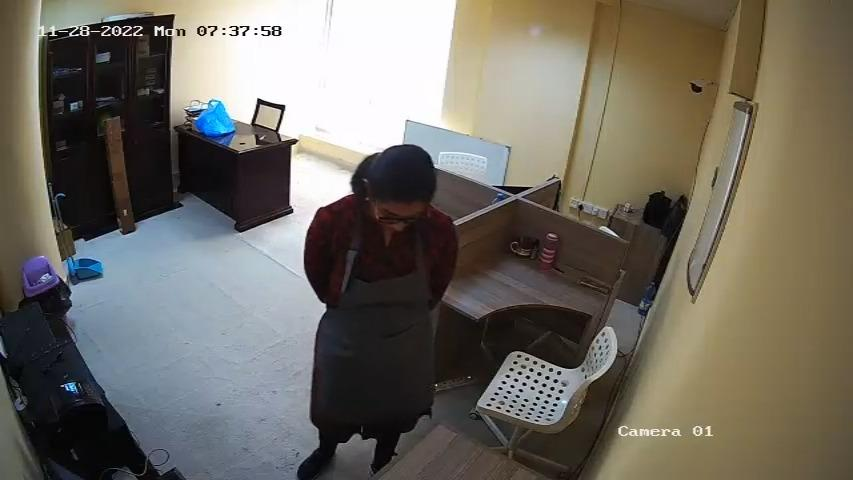apron: (316, 234, 440, 421)
